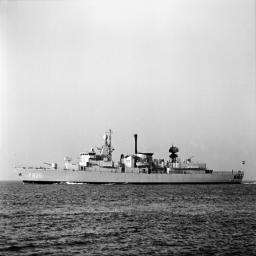Fragata: (13, 130, 246, 187)
